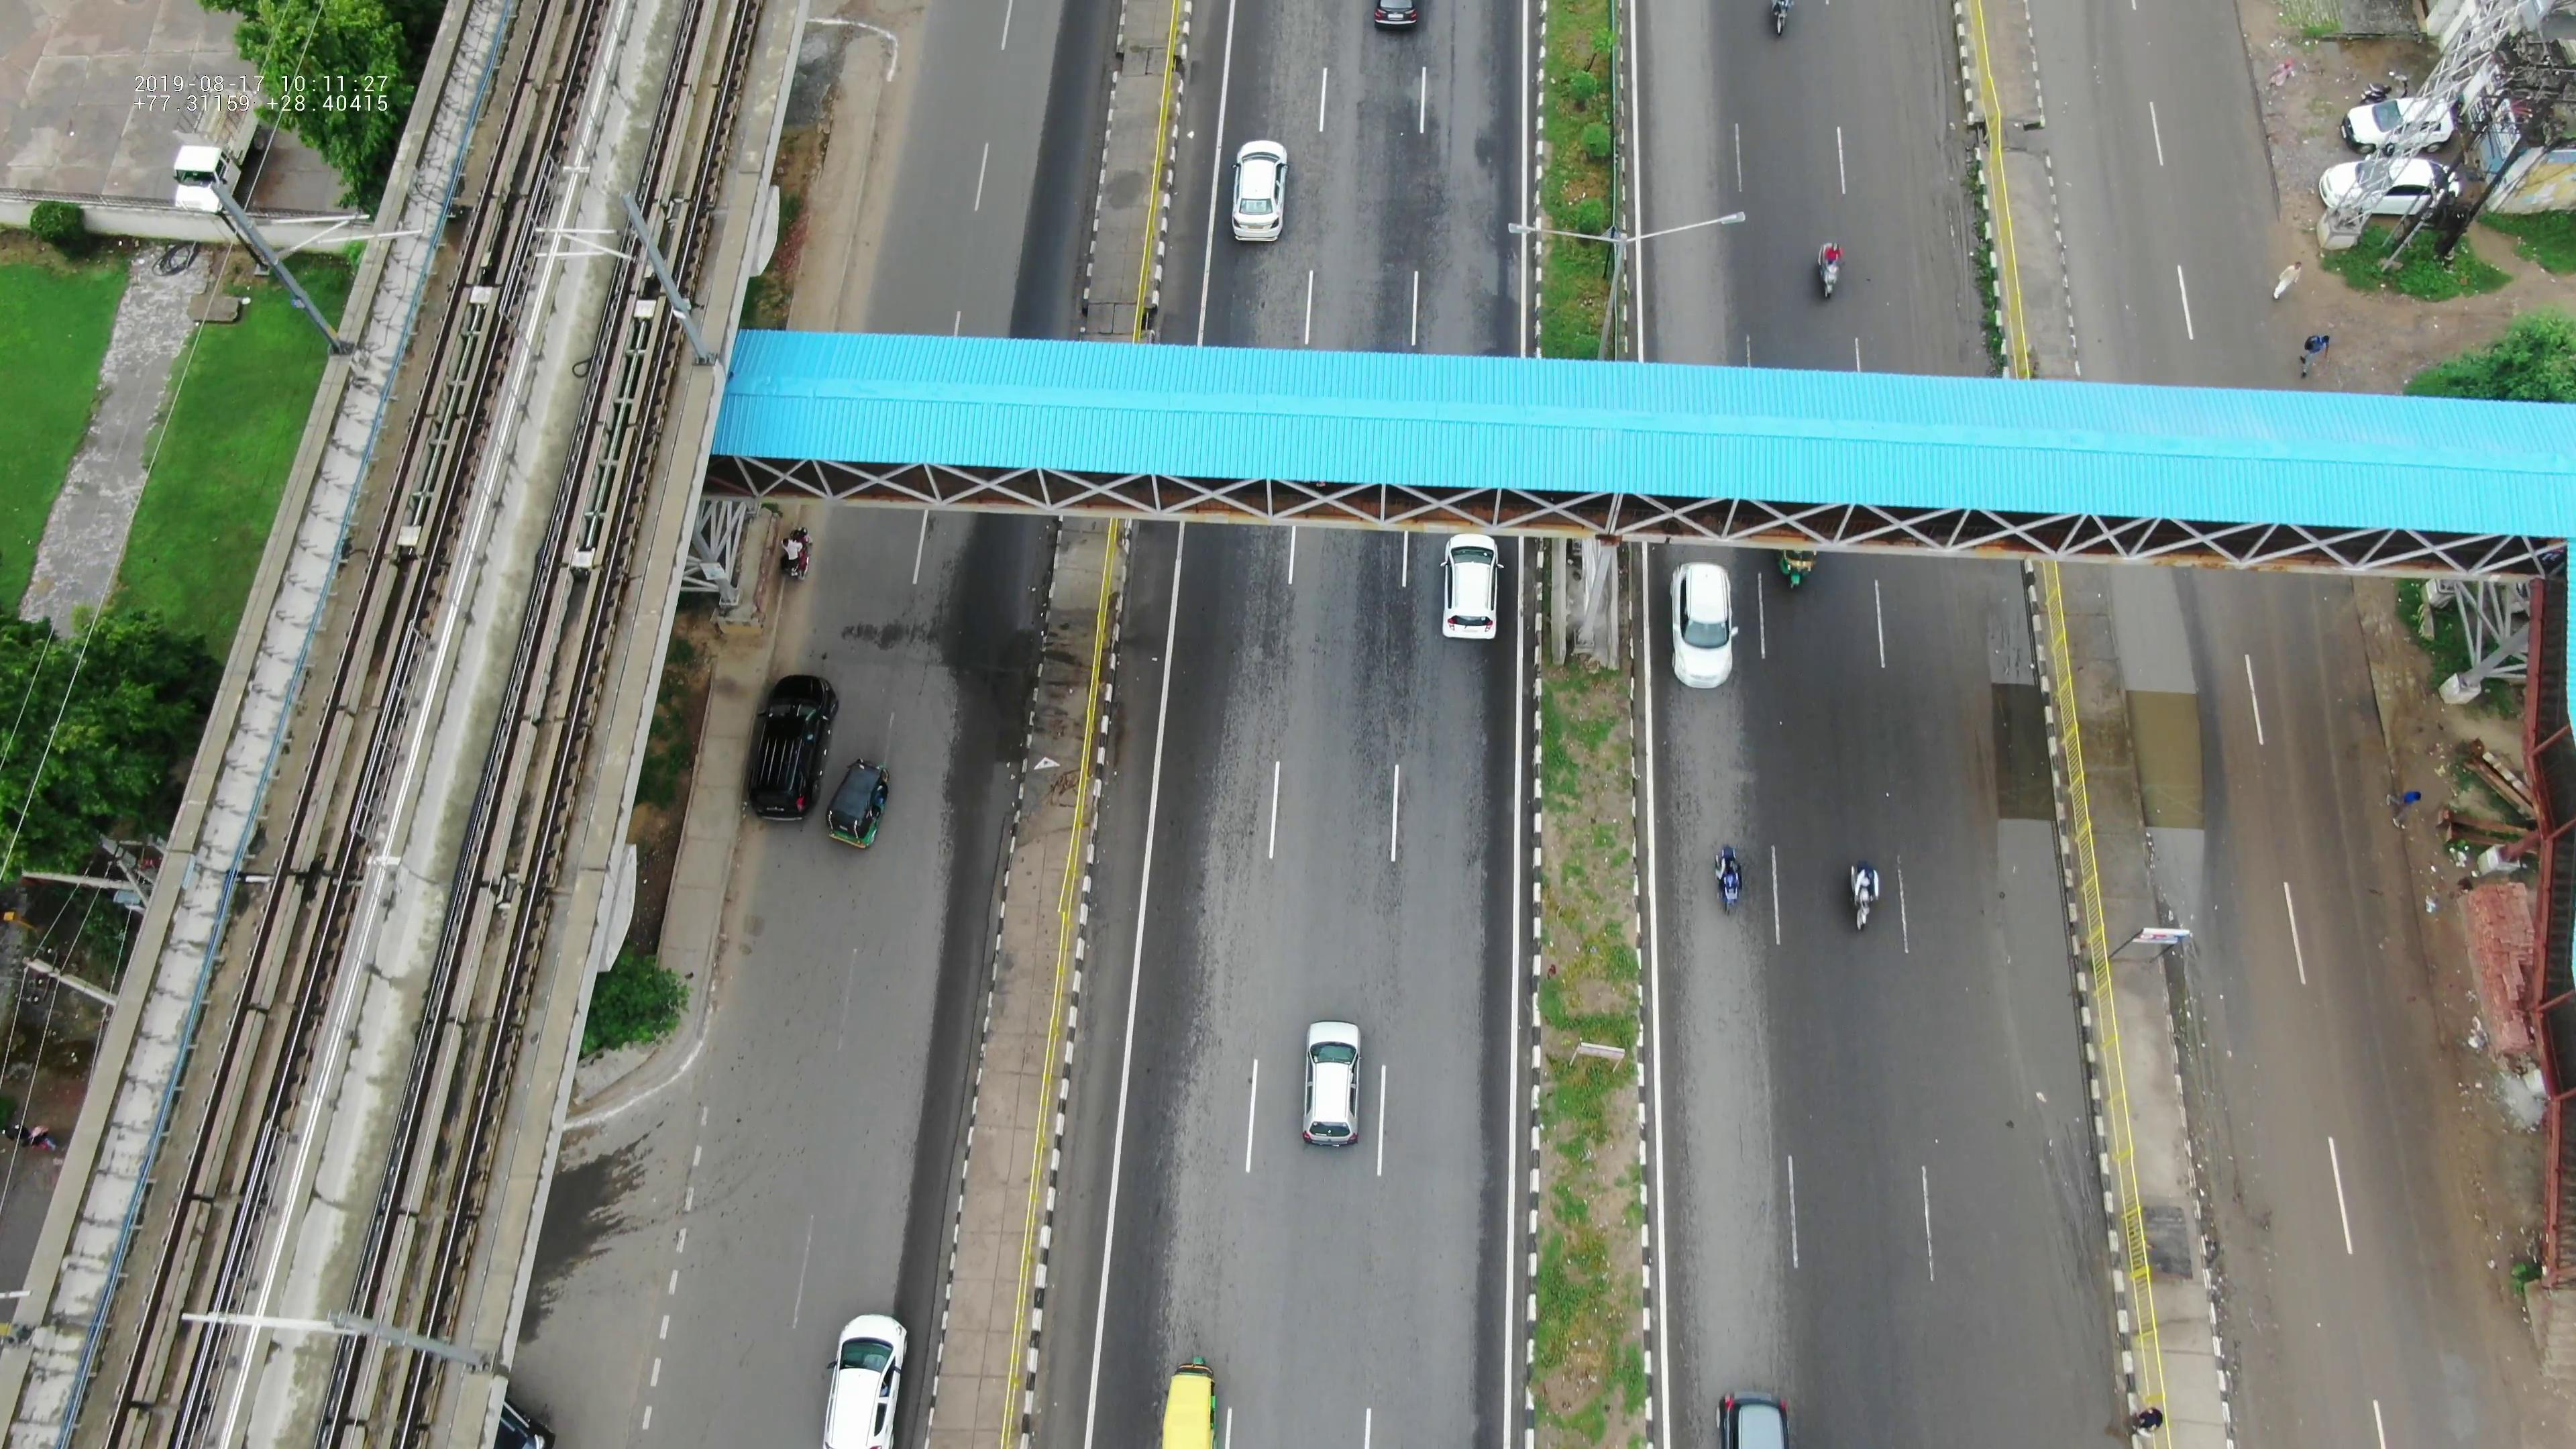Waterlogging: (1967, 617, 2093, 1115), (2100, 568, 2224, 881), (980, 639, 1030, 867)
